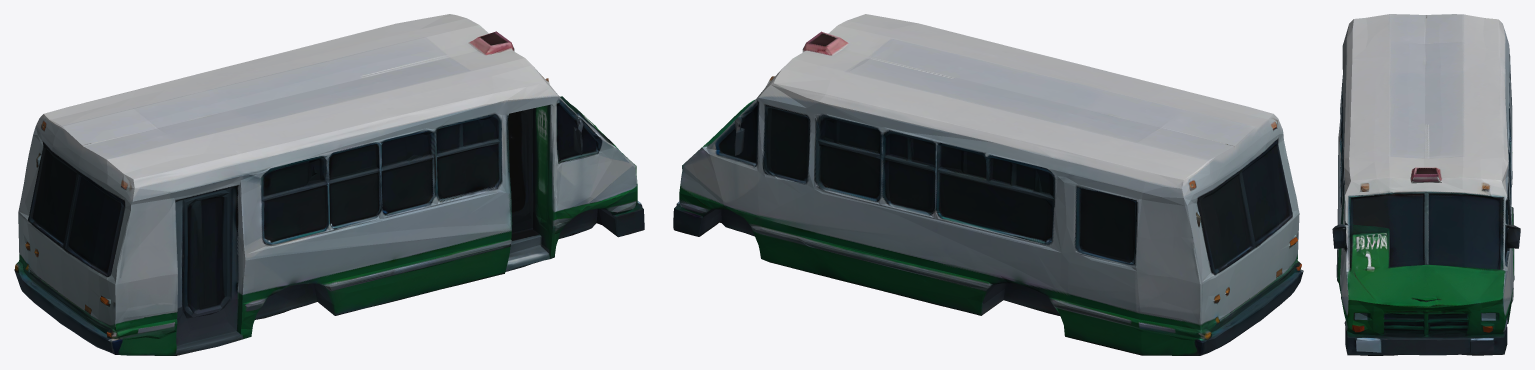
File: Microbus modelo 3D.glb
3 views of the same model, side by side, from view 1: azimuth 30°, elevation 25°; view 2: azimuth 150°, elevation 25°; view 3: azimuth 270°, elevation 25° (orthographic). The views are drawn at different scales.
Visible parts, largest first — view 1: tripo_node_93e52936-2230-40a7-9069-133865928516; view 2: tripo_node_93e52936-2230-40a7-9069-133865928516; view 3: tripo_node_93e52936-2230-40a7-9069-133865928516.
Boxes of the visible parts, box(x1,y1,x2,y2) form: tripo_node_93e52936-2230-40a7-9069-133865928516: box(14, 14, 644, 355); tripo_node_93e52936-2230-40a7-9069-133865928516: box(673, 14, 1303, 355); tripo_node_93e52936-2230-40a7-9069-133865928516: box(1332, 14, 1520, 355).
Size of the model in its own units: 1 by 0.3348 by 0.3705.
1 material, 1 textured.
